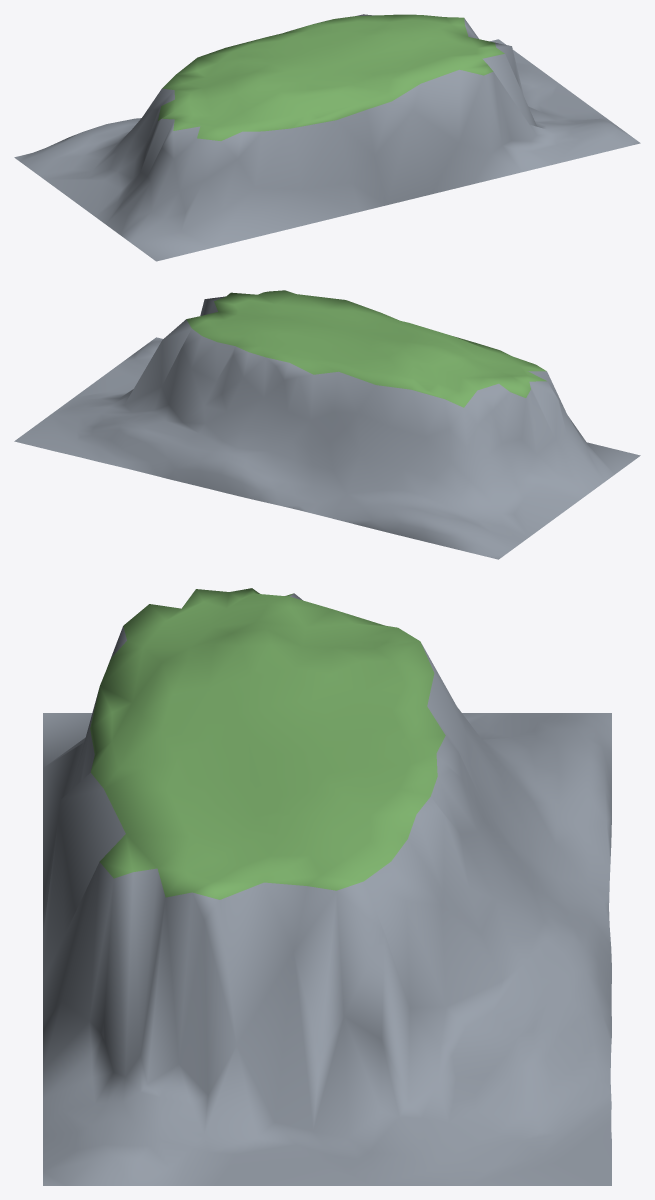
The model's file is SM_Cliffs_09.obj.
3 renders of one model, top to bottom at view 1: azimuth 30°, elevation 25°; view 2: azimuth 150°, elevation 25°; view 3: azimuth 270°, elevation 25°, orthographic. The views are drawn at different scales.
Visible parts, largest first — view 1: SM_Cliffs_09; view 2: SM_Cliffs_09; view 3: SM_Cliffs_09.
Part boxes in pixels (x1=…): SM_Cliffs_09: x1=14, y1=14, x2=640, y2=261; SM_Cliffs_09: x1=14, y1=290, x2=640, y2=559; SM_Cliffs_09: x1=43, y1=588, x2=611, y2=1185.
Bounding box in the file's own units: 21.41 × 4.64 × 10.89.
Materials: 1 (1 with a texture image).
